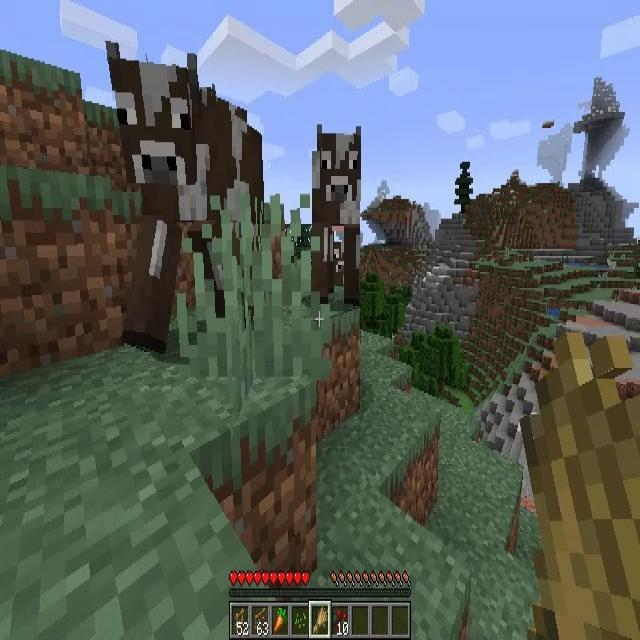cow: (105, 42, 264, 352), (312, 125, 362, 302)
